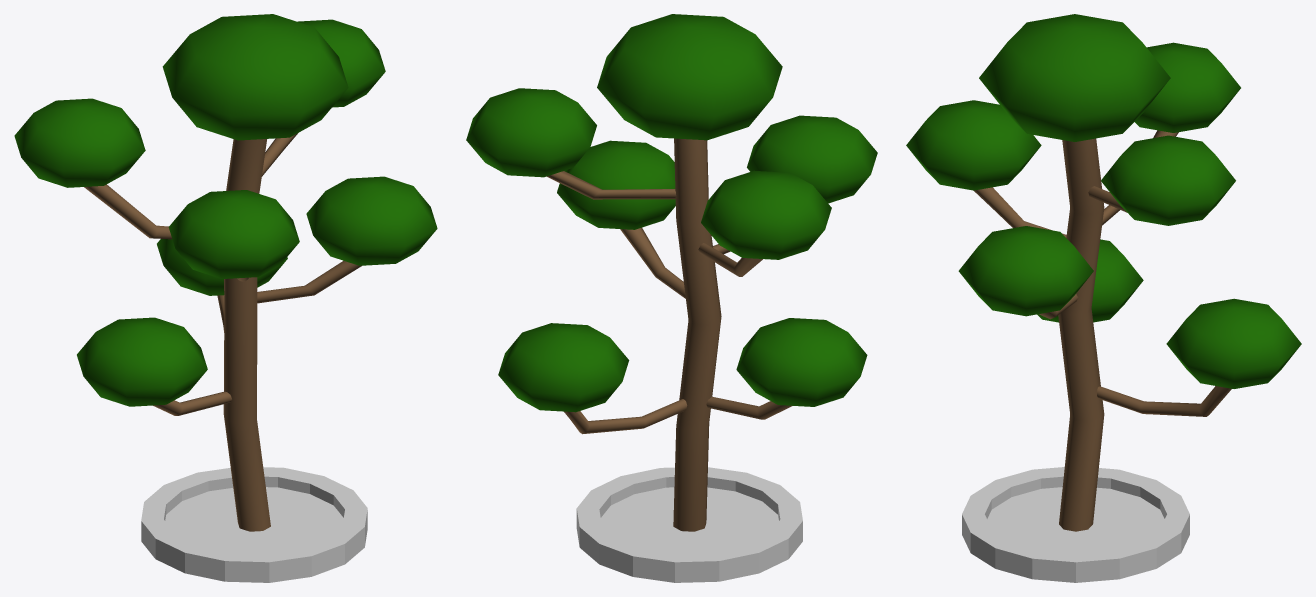
Rendered from tree1.fbx.
3 renders of one model, left to right at view 1: azimuth 30°, elevation 25°; view 2: azimuth 150°, elevation 25°; view 3: azimuth 270°, elevation 25°, orthographic.
Parts seen in each view (by area): view 1: Tree, Box; view 2: Tree, Box; view 3: Tree, Box.
Part boxes in pixels (<box>): Tree: <box>14,14,437,531</box>; Box: <box>141,467,367,582</box>; Tree: <box>466,14,877,531</box>; Box: <box>576,467,802,582</box>; Tree: <box>906,14,1301,531</box>; Box: <box>962,467,1189,582</box>.
Bounding box in the file's own units: 3.59 × 4.91 × 3.47.
